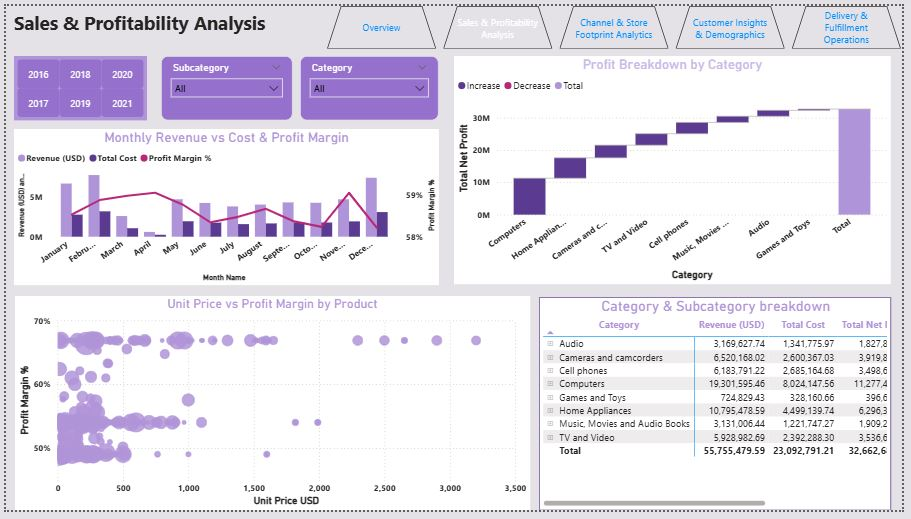

This screenshot's page, from the dashboard's own definition file:
{"tool":"powerbi","page":{"name":"Sales & Profitability Analysis ","canvas":[1280,720],"ordinal":1},"visuals":[{"type":"slicer","fields":{"Values":["Products.Category"]},"box":[420,72,198,92],"z":0},{"type":"advancedSlicerVisual","fields":{"Values":["Date.Year"]},"box":[12,72,190,92],"z":1000},{"type":"slicer","fields":{"Values":["Products.Subcategory"]},"box":[222,72,188,92],"z":2000},{"type":"lineClusteredColumnComboChart","title":"Monthly Revenue vs Cost & Profit Margin","fields":{"Y":["Customers.Revenue (USD)","Customers.Total Cost"],"Y2":["Customers.Profit Margin %"],"Category":["Sales.Month Name"]},"box":[11.4,175.7,607.1,222.9],"z":3000},{"type":"waterfallChart","title":"Profit Breakdown by Category","fields":{"Category":["Products.Category"],"Y":["Customers.Total Net Profit"]},"box":[640,72,624,326],"z":4000},{"type":"scatterChart","title":"Unit Price vs Profit Margin by Product","fields":{"X":["Products.Unit Price USD","Products.Product Name"],"Y":["Customers.Profit Margin %"],"Size":["Sum(Sales.Quantity)"]},"box":[12.9,414.3,735.7,305.7],"z":5000},{"type":"pivotTable","title":" Category & Subcategory breakdown","fields":{"Rows":["Products.Category","Products.Subcategory"],"Values":["Customers.Revenue (USD)","Customers.Total Cost","Customers.Total Net Profit","Customers.Profit Margin %"]},"box":[761.7,415,503.3,305],"z":6000},{"type":"textbox","box":[0,0,381.4,51.4],"z":7000},{"type":"pageNavigator","box":[458.1,0,821.9,61.4],"z":13000}]}

Visuals, with their boxes in screenshot pixels (x1, y1, x2, y2), scaled from the page's 1280x720 canvas onto the 911x519 screenshot:
slicer - Products.Category: 299, 52, 440, 118
advancedSlicerVisual - Date.Year: 9, 52, 144, 118
slicer - Products.Subcategory: 158, 52, 292, 118
"Monthly Revenue vs Cost & Profit Margin" lineClusteredColumnComboChart: 8, 127, 440, 287
"Profit Breakdown by Category" waterfallChart: 456, 52, 900, 287
"Unit Price vs Profit Margin by Product" scatterChart: 9, 299, 533, 518
" Category & Subcategory breakdown" pivotTable: 542, 299, 900, 518
textbox: 0, 0, 271, 37
pageNavigator: 326, 0, 910, 44
